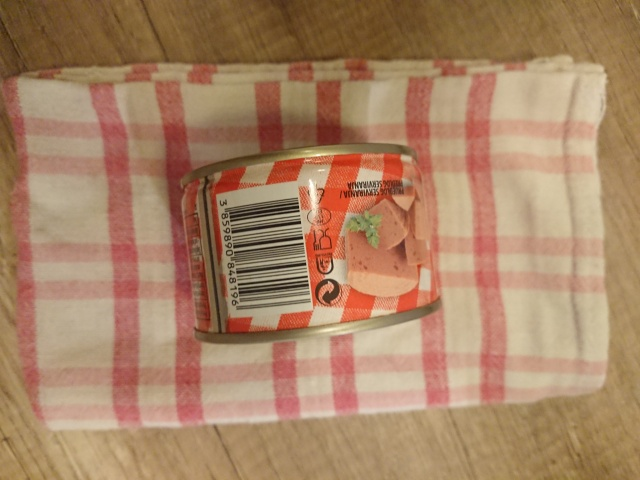Podravka Luncheon Meat 150g: (176, 139, 447, 348)
